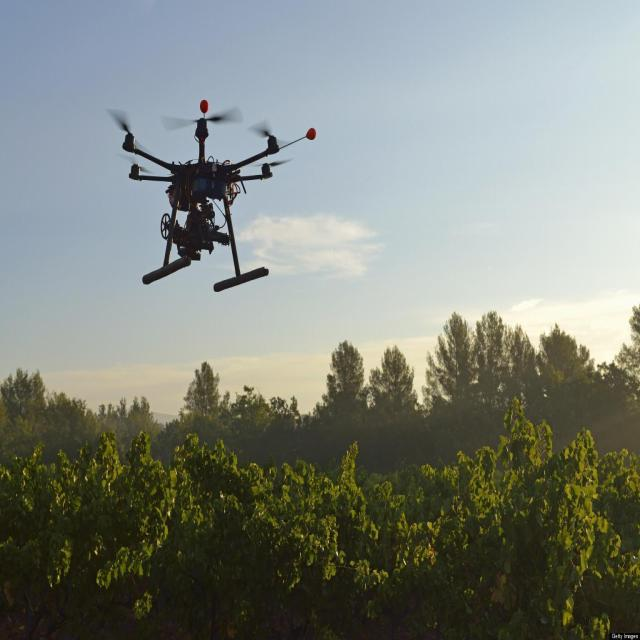UAV: (119, 104, 283, 294)
